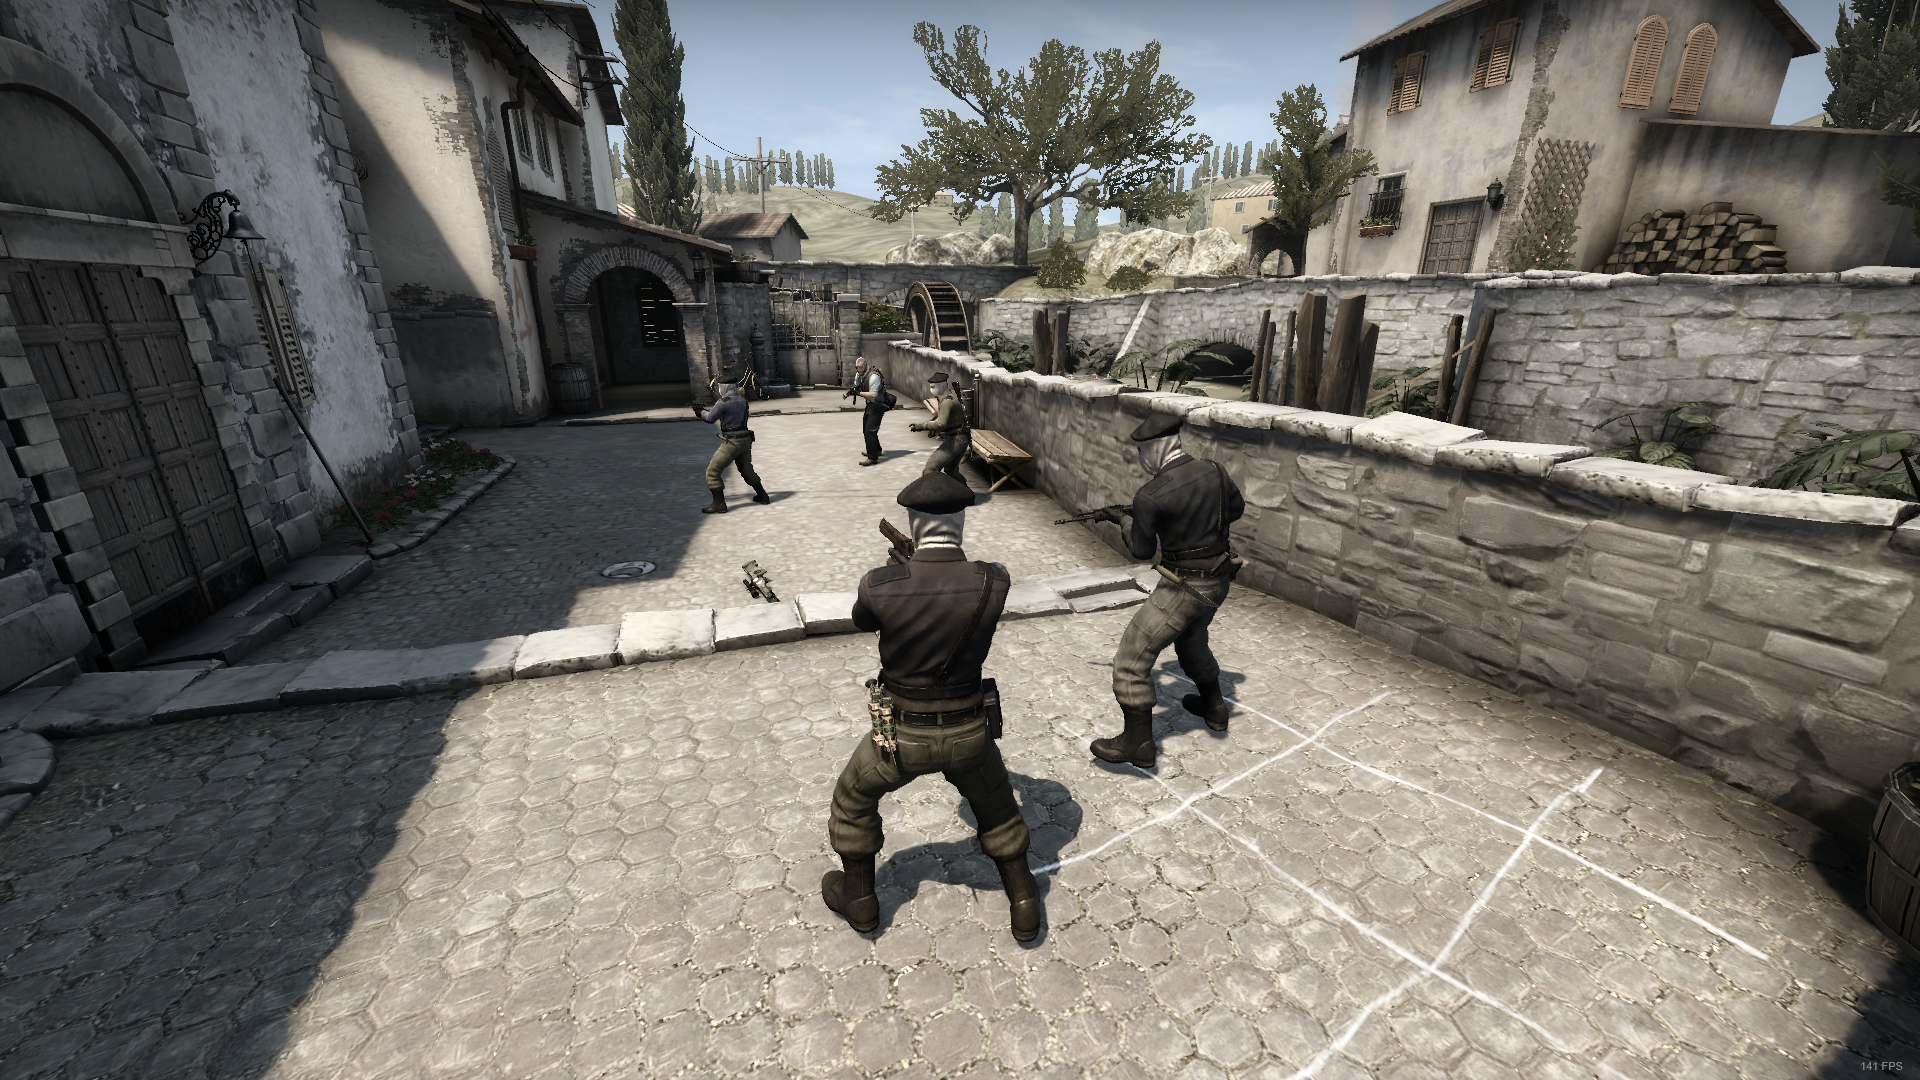t: (820, 473, 1047, 952), (1085, 414, 1250, 769), (696, 375, 771, 516), (909, 372, 971, 512)
